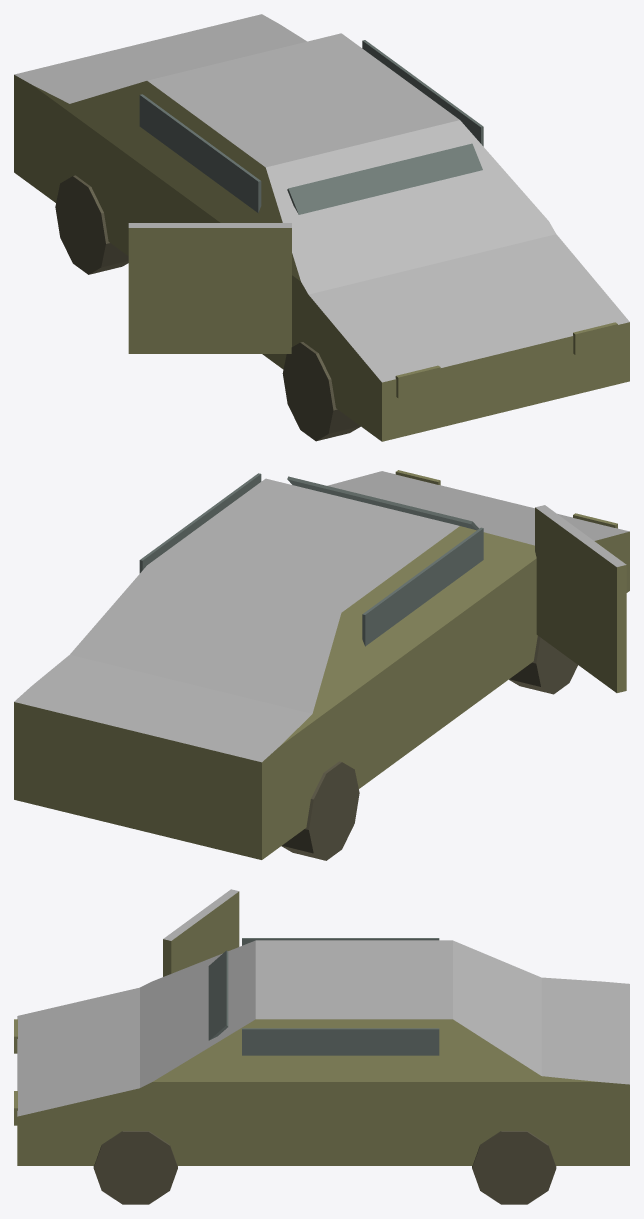
Rendered from SM_CocheCivil_Berlina_v1_LOD0.fbx.
The picture shows the model from 3 angles, top to bottom: view 1: azimuth 30°, elevation 25°; view 2: azimuth 150°, elevation 25°; view 3: azimuth 270°, elevation 25°; orthographic projection. The views are drawn at different scales.
Visible parts, largest first — view 1: SM_coche_civil_v6_LOD0; view 2: SM_coche_civil_v6_LOD0; view 3: SM_coche_civil_v6_LOD0.
Boxes of the visible parts, x1,y1,x2,y2 form: SM_coche_civil_v6_LOD0: (14,14,629,441); SM_coche_civil_v6_LOD0: (14,470,629,860); SM_coche_civil_v6_LOD0: (14,889,629,1204).
Bounding box in the file's own units: 2.65 × 1.4 × 4.53.
